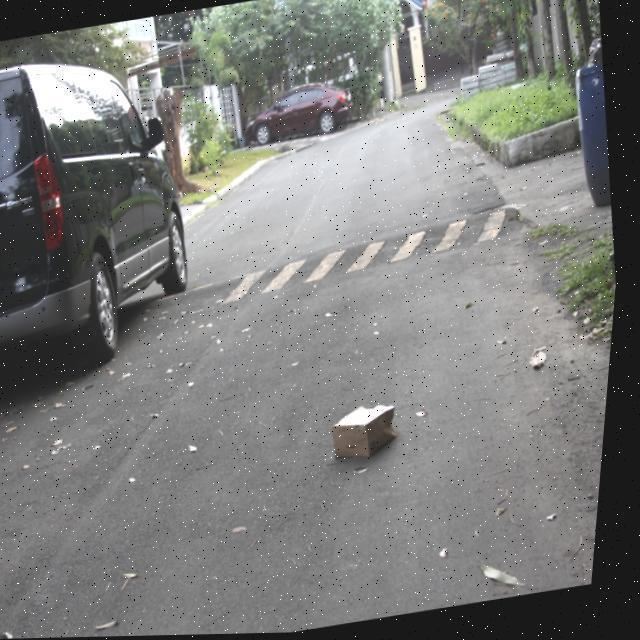Paper_Bag: (336, 402, 410, 464)
